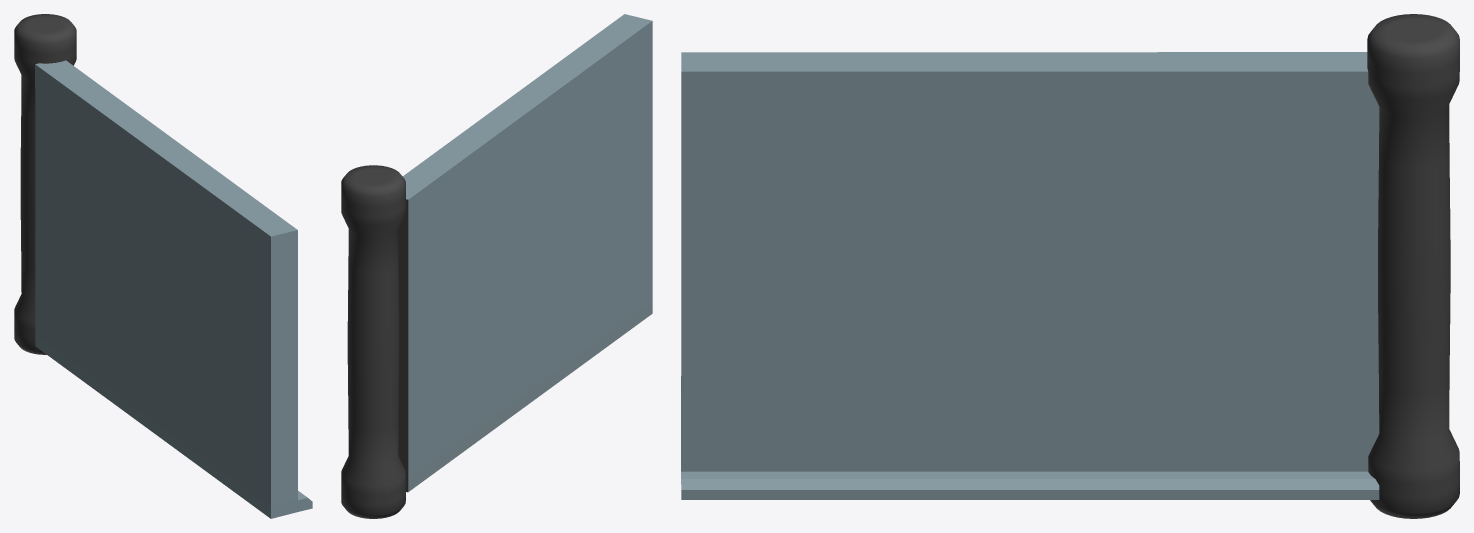
Rendered from medium wall line 1 pillar.fbx.
3 renders of one model, left to right at view 1: azimuth 30°, elevation 25°; view 2: azimuth 150°, elevation 25°; view 3: azimuth 270°, elevation 25°, orthographic. The views are drawn at different scales.
Parts seen in each view (by area): view 1: line_wall_medium_1_pillar; view 2: line_wall_medium_1_pillar; view 3: line_wall_medium_1_pillar.
Boxes of the visible parts, bbox=[...] form: line_wall_medium_1_pillar: bbox=[14, 14, 312, 518]; line_wall_medium_1_pillar: bbox=[341, 14, 652, 518]; line_wall_medium_1_pillar: bbox=[681, 14, 1459, 518].
Size of the model in its own units: 157 by 881 by 1319.
